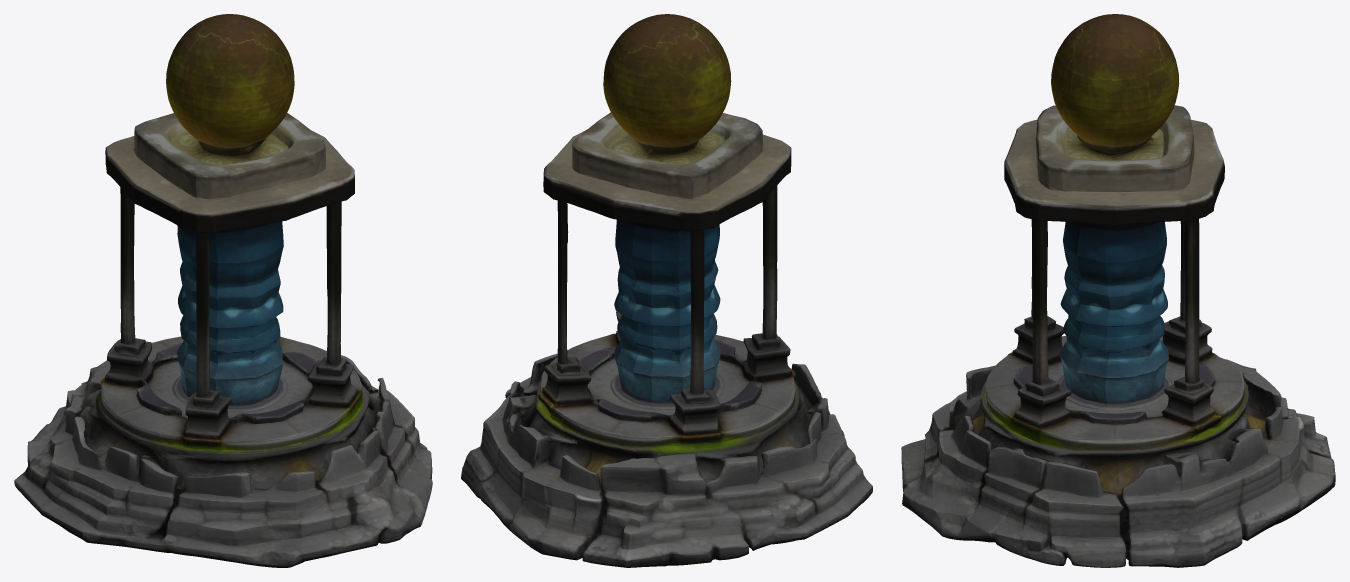
File: std_trellis_orb_pedestal.glb
3 renders of one model, left to right at view 1: azimuth 30°, elevation 25°; view 2: azimuth 150°, elevation 25°; view 3: azimuth 270°, elevation 25°, orthographic.
Visible parts, largest first — view 1: world; view 2: world; view 3: world.
Part boxes in pixels (left/top/right/bottom): world: left=14, top=14, right=432, bottom=567; world: left=461, top=14, right=872, bottom=567; world: left=901, top=14, right=1335, bottom=567.
Size of the model in its own units: 0.7922 by 0.9947 by 0.8363.
Materials: 1 (1 with a texture image).
